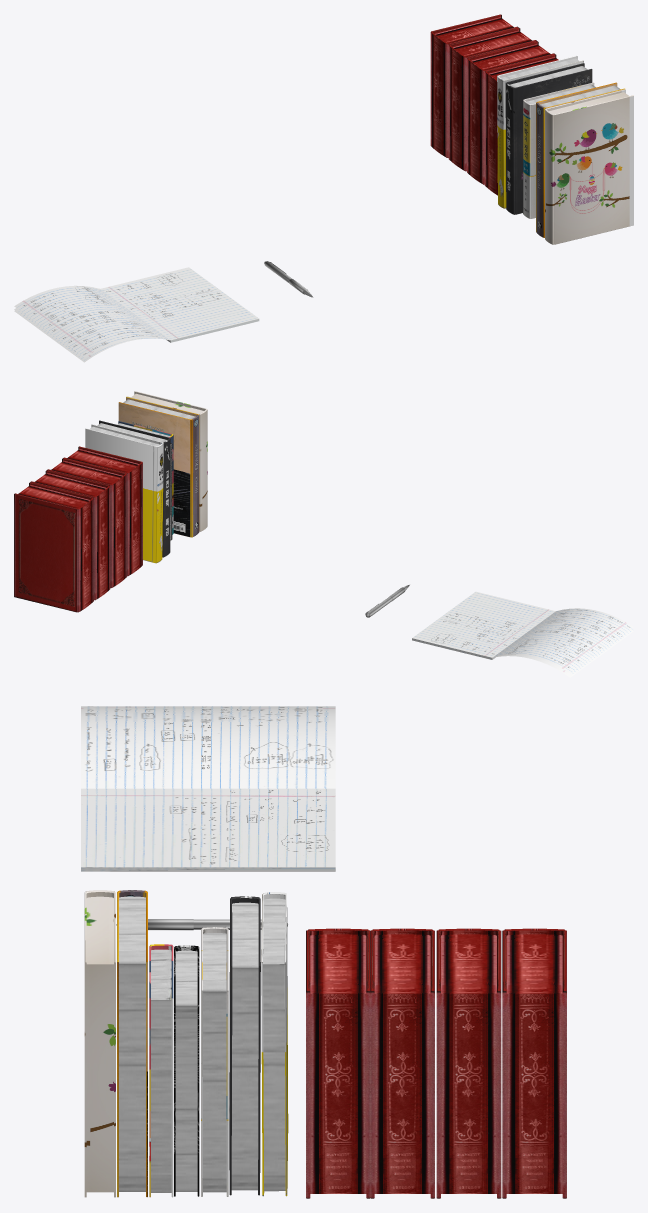
Rendered from Level1.FBX.
3 views of the same model, one above another, from view 1: azimuth 30°, elevation 25°; view 2: azimuth 150°, elevation 25°; view 3: azimuth 270°, elevation 25° (orthographic). The views are drawn at different scales.
Visible parts, largest first — view 1: Obj_note_01, Obj_book_etc_013, Obj_book_etc_05, Obj_book_etc_021, Obj_book_etc_020, Obj_book_etc_022, Obj_book_etc_023, Obj_book_etc_03, Obj_book_etc_04, Obj_book_etc_02; view 2: Obj_note_01, Obj_book_etc_020, Obj_book_etc_04, Obj_book_etc_02, Obj_book_etc_022, Obj_book_etc_021, Obj_book_etc_023, Obj_book_etc_013, Obj_book_etc_05, Obj_book_etc_10; view 3: Obj_note_01, Obj_book_etc_021, Obj_book_etc_020, Obj_book_etc_022, Obj_book_etc_023, Obj_book_etc_013, Obj_book_etc_04, Obj_book_etc_05, Obj_book_etc_02, Obj_book_etc_03, Obj_book_etc_11, Obj_book_etc_10 (+1 smaller).
Boxes of the visible parts, box(x1,y1,x2,y2) form: Obj_note_01: box(14, 267, 259, 362); Obj_book_etc_013: box(545, 89, 633, 244); Obj_book_etc_05: box(505, 63, 592, 214); Obj_book_etc_021: box(448, 28, 536, 171); Obj_book_etc_020: box(430, 14, 518, 157); Obj_book_etc_022: box(467, 41, 554, 184); Obj_book_etc_023: box(484, 54, 558, 195); Obj_book_etc_03: box(523, 82, 595, 218); Obj_book_etc_04: box(536, 82, 624, 237); Obj_book_etc_02: box(497, 55, 583, 208); Obj_note_01: box(412, 591, 633, 677); Obj_book_etc_020: box(14, 482, 93, 612); Obj_book_etc_04: box(118, 396, 199, 537); Obj_book_etc_02: box(85, 424, 163, 563); Obj_book_etc_022: box(47, 458, 126, 587); Obj_book_etc_021: box(30, 470, 110, 600); Obj_book_etc_023: box(63, 446, 142, 576); Obj_book_etc_013: box(127, 391, 207, 531); Obj_book_etc_05: box(97, 420, 170, 557); Obj_book_etc_10: box(117, 421, 173, 534); Obj_note_01: box(81, 706, 335, 871); Obj_book_etc_021: box(436, 928, 501, 1198); Obj_book_etc_020: box(502, 928, 566, 1198); Obj_book_etc_022: box(370, 928, 434, 1198); Obj_book_etc_023: box(306, 928, 370, 1198); Obj_book_etc_013: box(84, 890, 115, 1197); Obj_book_etc_04: box(117, 890, 147, 1197); Obj_book_etc_05: box(229, 896, 260, 1195); Obj_book_etc_02: box(261, 892, 288, 1196); Obj_book_etc_03: box(201, 927, 228, 1196); Obj_book_etc_11: box(174, 945, 199, 1196); Obj_book_etc_10: box(149, 944, 173, 1197).
Size of the model in its own units: 117 by 27.24 by 49.24.
